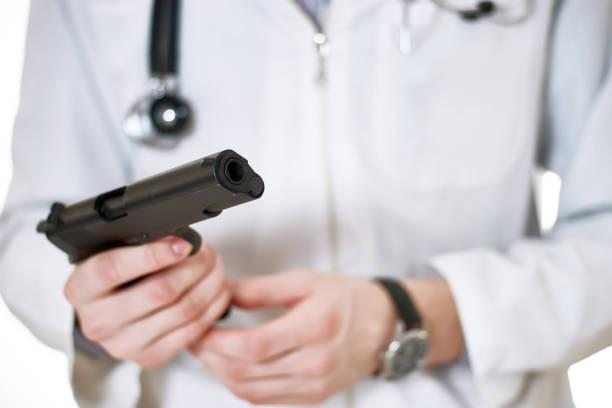weapon: (35, 146, 268, 326)
